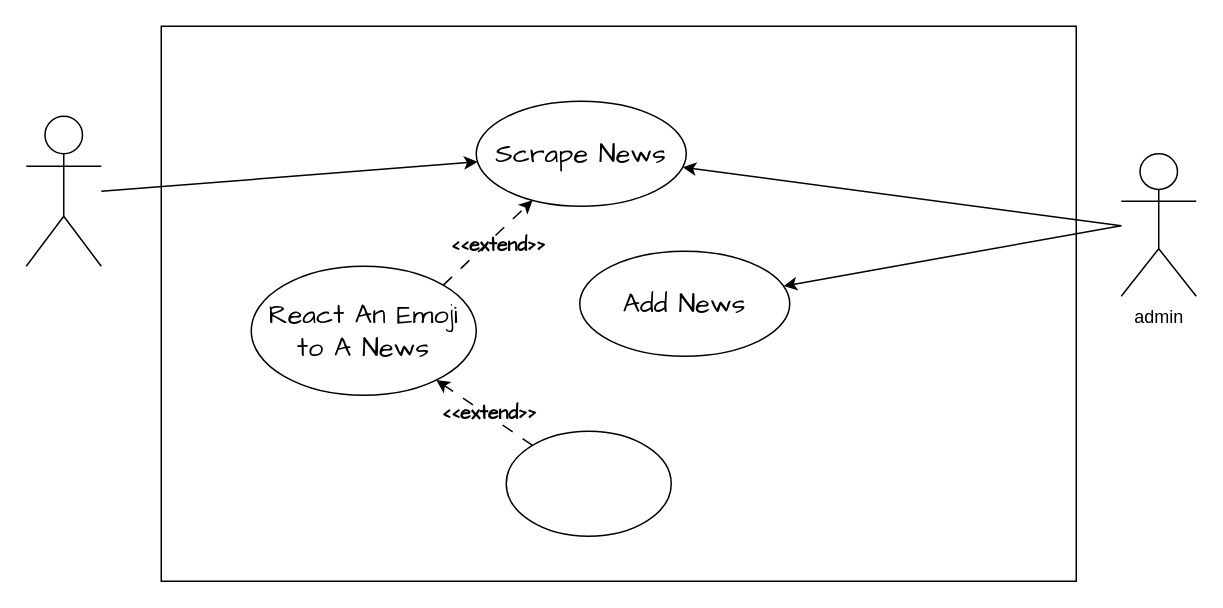
This 1223x608 diagram has some shape labels left out. Each missing label, with the box of its shape:
Remove React: (505, 430, 671, 536)
user: (25, 115, 101, 266)
